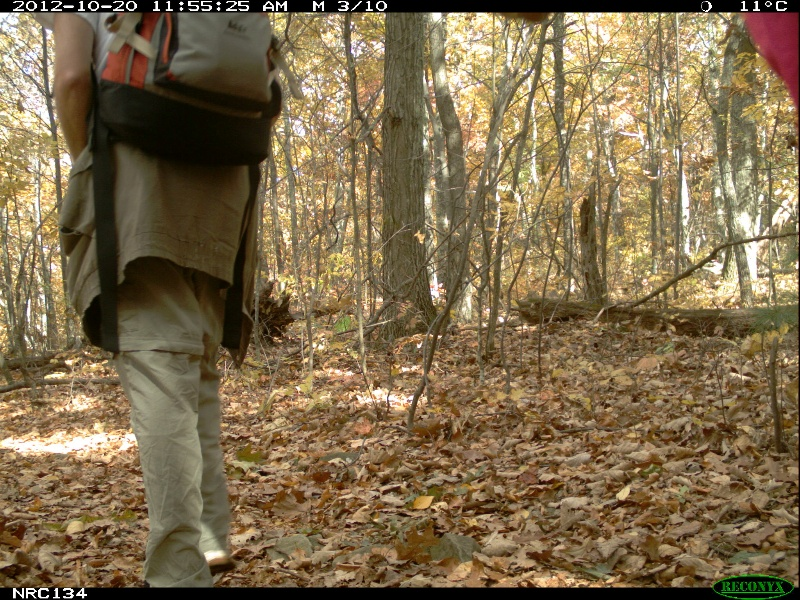human legs: (75, 131, 269, 586)
